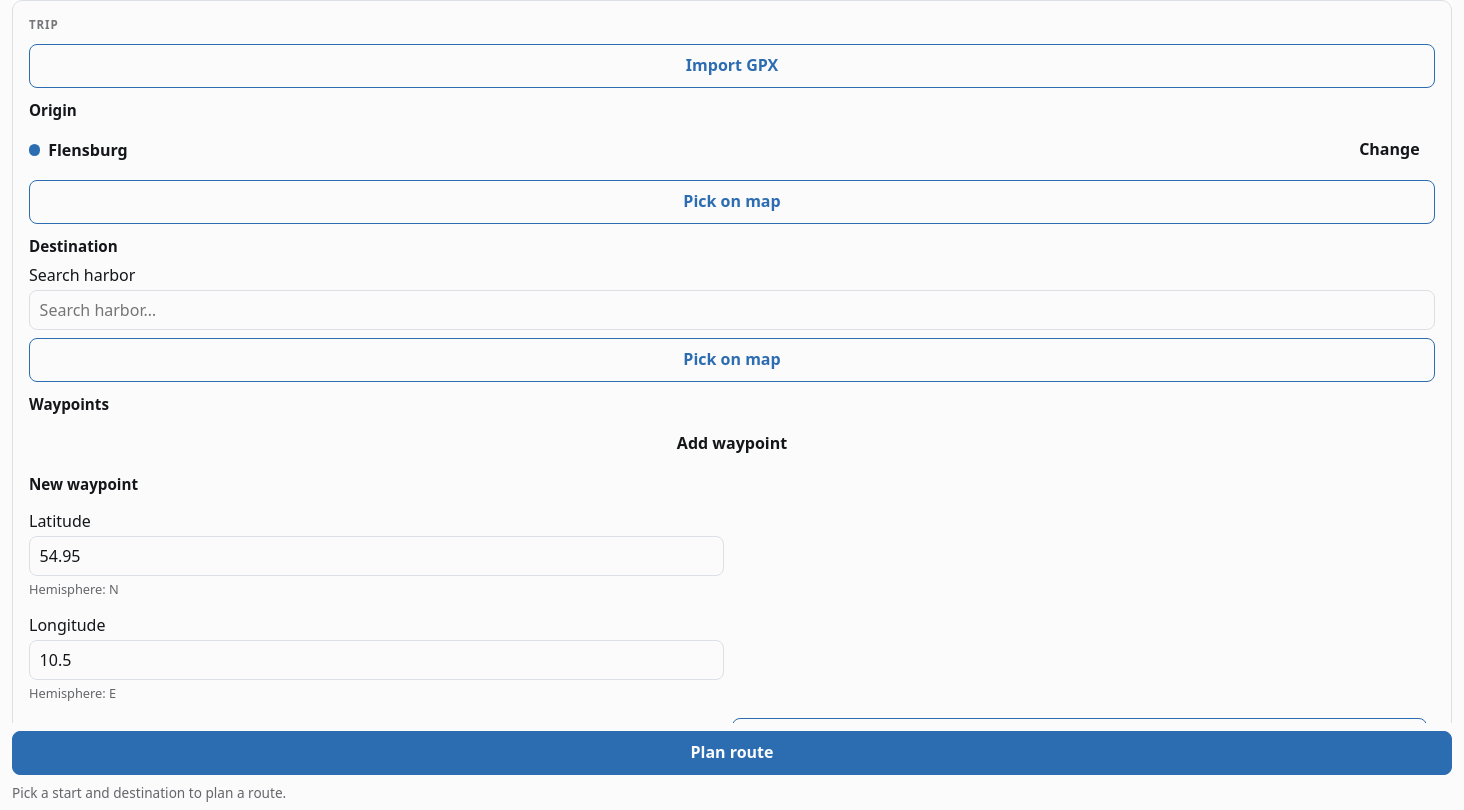
it: PlannerPanel › reverts a re-picked selected endpoint to its row when the search is dismissed with Escape
This screenshot has width=1464, height=810.
Click the button "Change".
click(1389, 150)  # box [1344,128,1435,172]
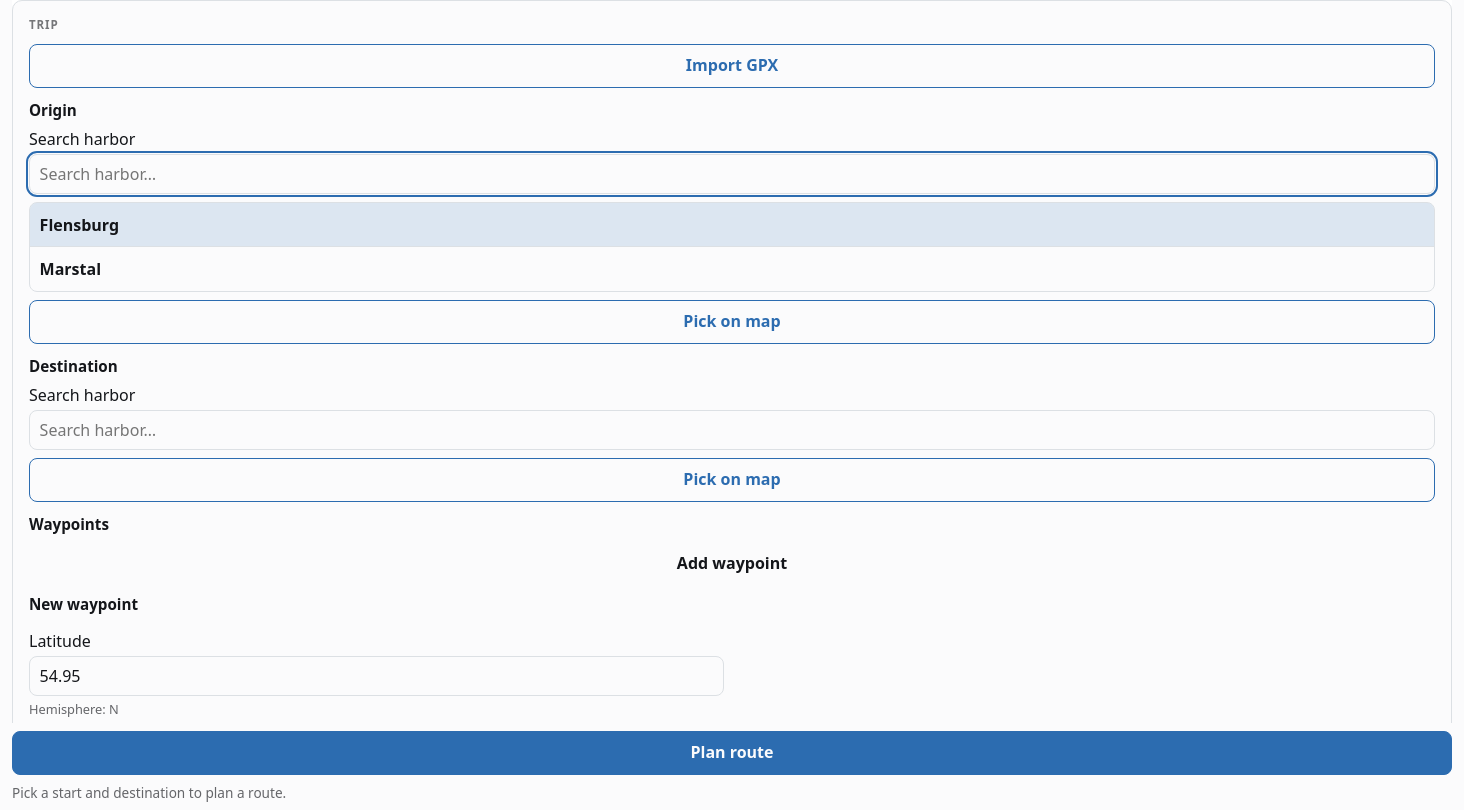
Press Escape in the dropdown labelled "Search harbor" below "Origin", box [29,154,1435,194]
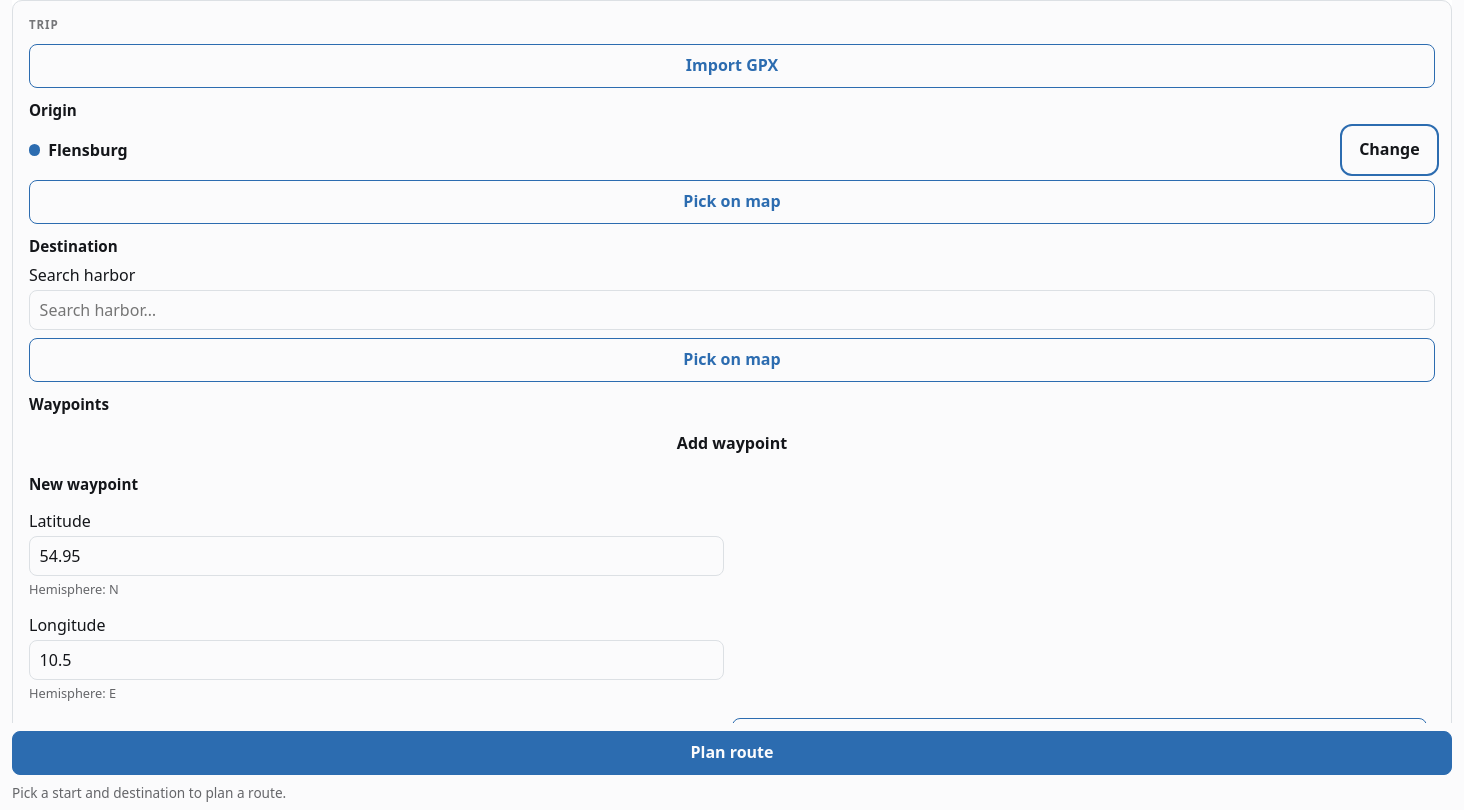
Expected: the text "Flensburg" is shown, [48,139,128,161]
Expected: the button "Change" is shown, [1344,128,1435,172]
